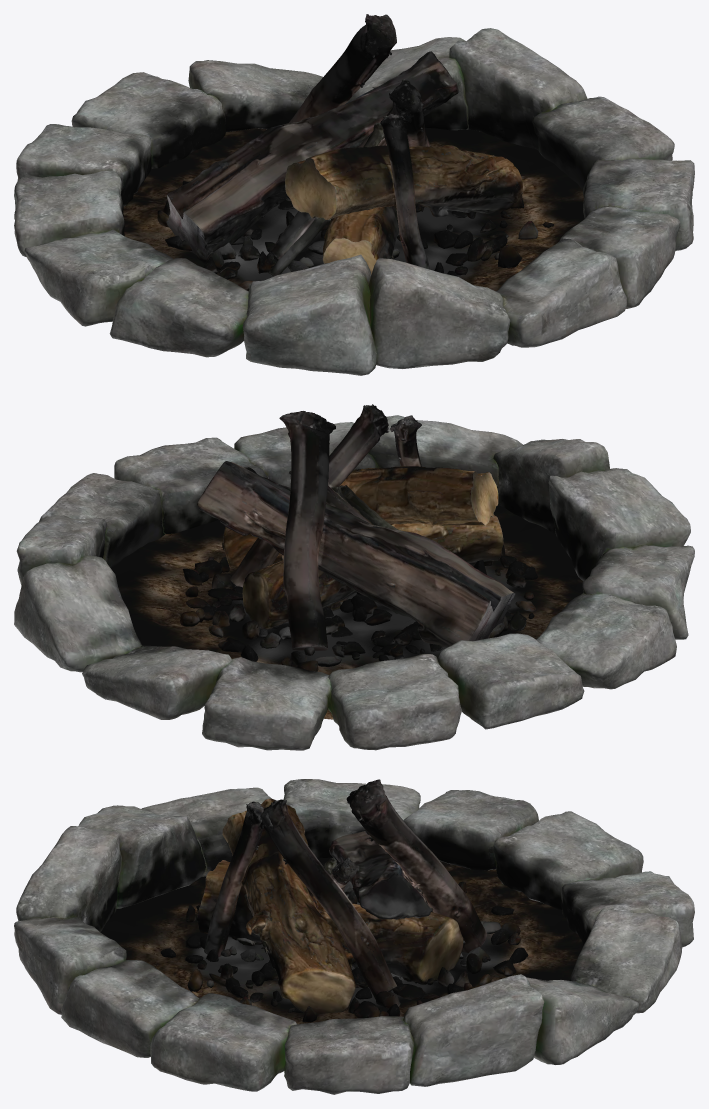
File: campfire.glb
The picture shows the model from 3 angles, top to bottom: view 1: azimuth 30°, elevation 25°; view 2: azimuth 150°, elevation 25°; view 3: azimuth 270°, elevation 25°; orthographic projection. The views are drawn at different scales.
Visible parts, largest first — view 1: Stones, Logs, Ground, Ground Pieces; view 2: Stones, Logs, Ground, Ground Pieces; view 3: Stones, Logs, Ground, Ground Pieces.
Boxes of the visible parts, x1,y1,x2,y2 form: Stones: [14, 28, 694, 375]; Logs: [166, 14, 522, 276]; Ground: [123, 127, 584, 291]; Ground Pieces: [157, 145, 553, 289]; Stones: [14, 415, 694, 750]; Logs: [197, 404, 515, 650]; Ground: [111, 505, 583, 719]; Ground Pieces: [180, 541, 537, 671]; Stones: [14, 779, 694, 1094]; Logs: [197, 779, 486, 1014]; Ground: [100, 857, 583, 1024]; Ground Pieces: [160, 862, 528, 1022].
Size of the model in its own units: 0.9437 by 0.3146 by 0.969.
5 materials, 4 textured.
